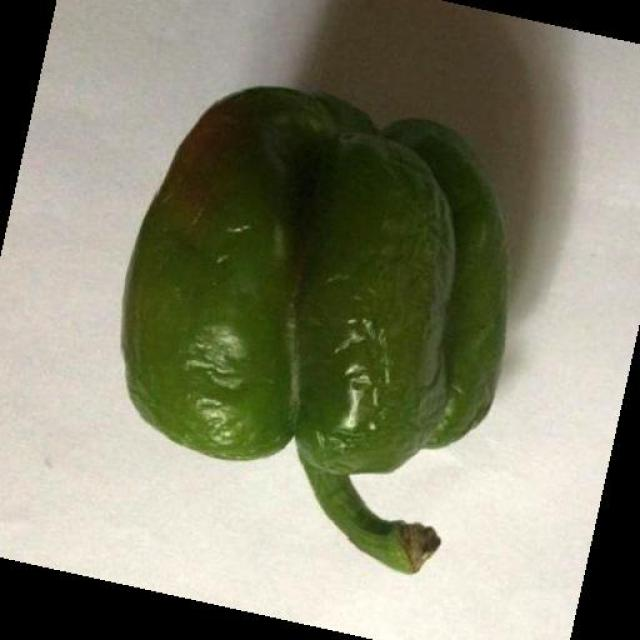Stale_Capsicum: (138, 78, 505, 526)
